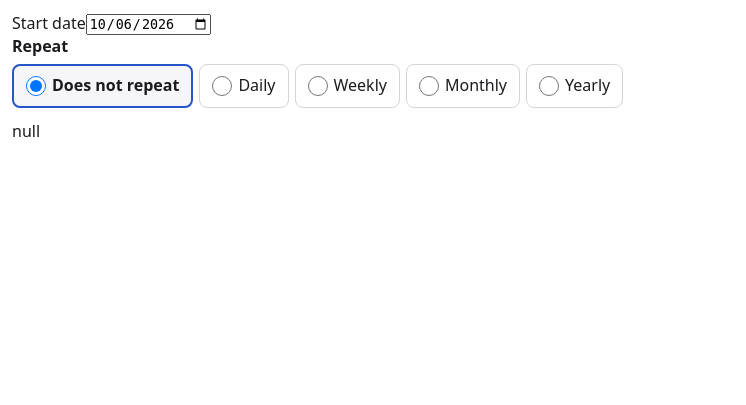
Test case: RepeatFields › weekly: clearing every weekday shows an error next to the days
Click the radio button labelled "Weekly" at (318, 86), box [308,76,328,96]
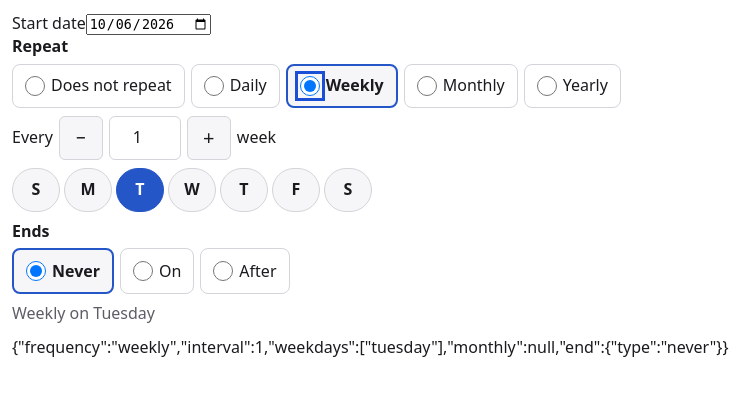
Click the button named "Tuesday" at (140, 190), box [116,168,164,212]
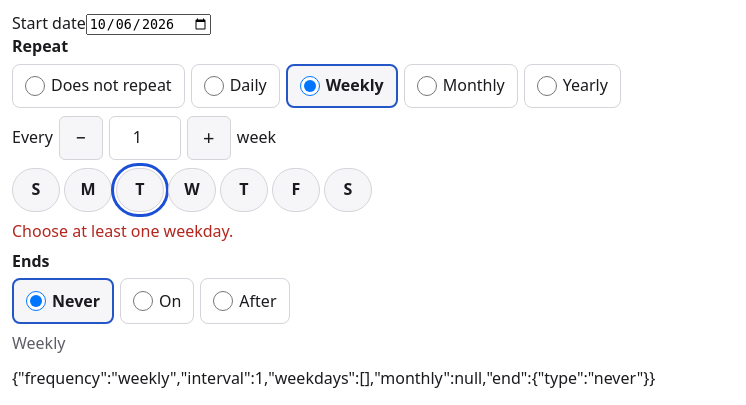
Now the text "Choose at least one weekday." is shown, box [12,220,233,242]
